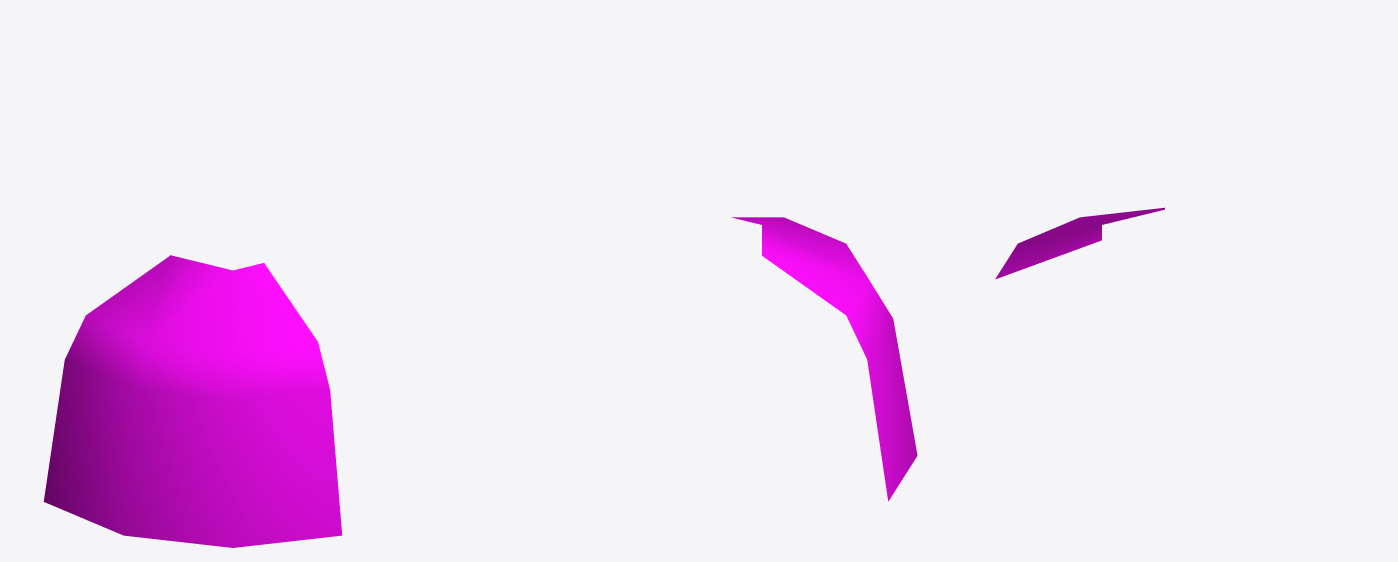
File: ava_bodyE0__ava_bodyE0.glb
The picture shows the model from 3 angles, left to right: view 1: azimuth 30°, elevation 25°; view 2: azimuth 150°, elevation 25°; view 3: azimuth 270°, elevation 25°; orthographic projection.
Parts seen in each view (by area): view 1: polygon0; view 2: polygon0; view 3: polygon0.
Boxes of the visible parts, x1,y1,x2,y2 form: polygon0: [43, 255, 342, 547]; polygon0: [731, 217, 917, 500]; polygon0: [995, 207, 1164, 279].
Size of the model in its own units: 2.53 by 2.62 by 2.53.
1 material, 1 textured.
